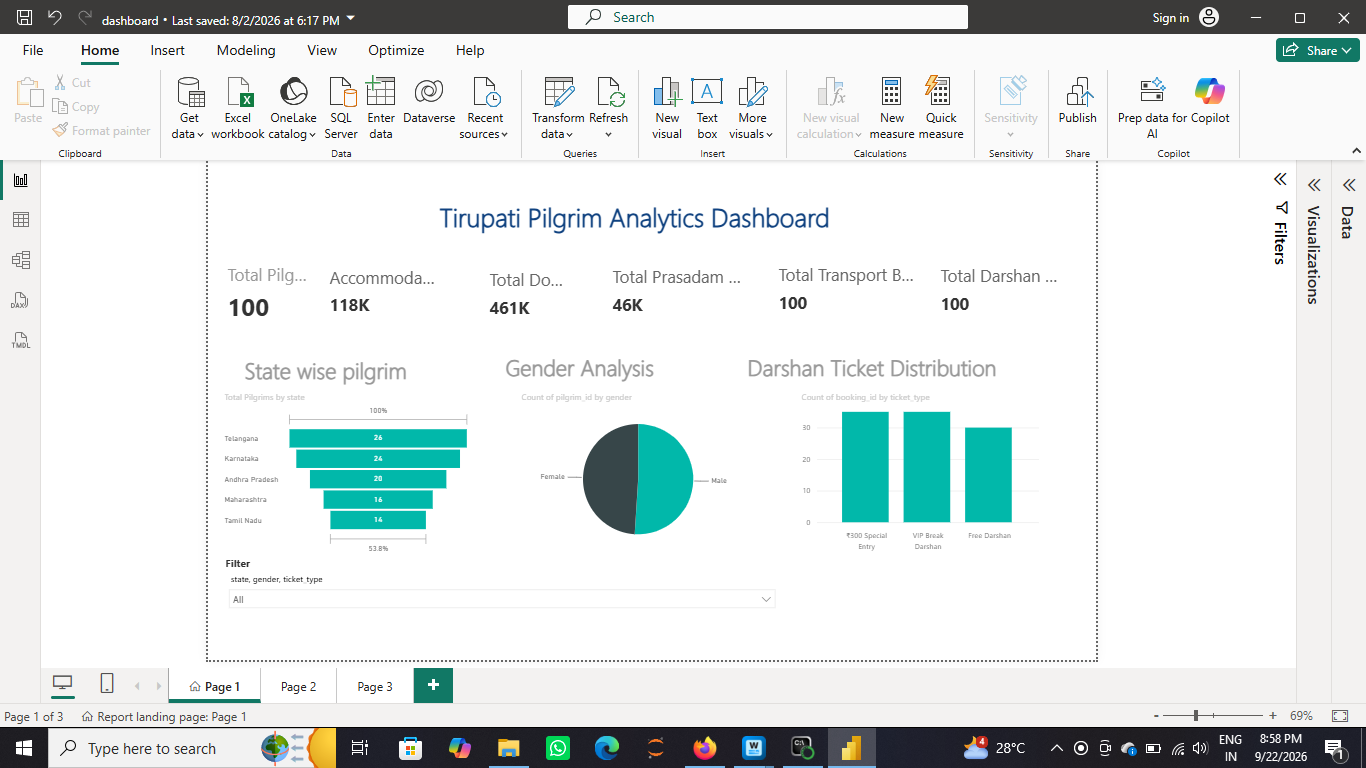

The page's visual inventory and layout, read from the dashboard file:
{"tool":"powerbi","page":{"name":"Page 1","canvas":[1280,720],"ordinal":0},"visuals":[{"type":"cardVisual","fields":{"Data":["pilgrims.Total Pilgrims"]},"box":[0,136.3,172.5,108.7],"z":0},{"type":"cardVisual","fields":{"Data":["darshan_bookings(1).Total Darshan Bookings"]},"box":[1026.4,108.7,227.7,155.3],"z":1000},{"type":"cardVisual","fields":{"Data":["accommodation.Accommodation Revenue"]},"box":[146.6,98.3,215.6,179.4],"z":2000},{"type":"cardVisual","fields":{"Data":["transport.Total Transport Bookings"]},"box":[793.5,108.7,255.3,151.8],"z":3000},{"type":"cardVisual","fields":{"Data":["prasadam_orders.Total Prasadam Revenue"]},"box":[553.7,108.7,251.9,158.7],"z":4000},{"type":"cardVisual","fields":{"Data":["donations.Total Donations"]},"box":[377.8,122.5,176,138],"z":5000},{"type":"textbox","box":[100,52.5,1040,75],"z":6000},{"type":"funnel","fields":{"Category":["pilgrims.state"],"Y":["pilgrims.Total Pilgrims"]},"box":[18,332,364,238],"z":7000},{"type":"pieChart","fields":{"Category":["pilgrims.gender"],"Y":["CountNonNull(pilgrims.pilgrim_id)"]},"box":[446,332,346,238],"z":8000},{"type":"clusteredColumnChart","fields":{"Category":["darshan_bookings(1).ticket_type"],"Y":["CountNonNull(darshan_bookings(1).booking_id)"]},"box":[850,332,352,238],"z":9000},{"type":"textbox","box":[48,270,334,62],"z":10000},{"type":"textbox","box":[424,270,400,62],"z":11000},{"type":"textbox","box":[772,270,508,62],"z":12000},{"type":"slicer","title":"Filter","fields":{"Values":["pilgrims.state","pilgrims.gender","darshan_bookings(1).ticket_type"]},"box":[20,570,806.7,111.7],"z":13000}]}

Visuals, with their boxes on the page's 1280x720 design canvas (x1, y1, x2, y2). These are canvas units, not pixel positions in the 1366x768 screenshot, which may show the page scaled, cropped or inside an application window:
cardVisual - pilgrims.Total Pilgrims: bbox=[0, 136, 172, 245]
cardVisual - darshan_bookings(1).Total Darshan Bookings: bbox=[1026, 109, 1254, 264]
cardVisual - accommodation.Accommodation Revenue: bbox=[147, 98, 362, 278]
cardVisual - transport.Total Transport Bookings: bbox=[794, 109, 1049, 260]
cardVisual - prasadam_orders.Total Prasadam Revenue: bbox=[554, 109, 806, 267]
cardVisual - donations.Total Donations: bbox=[378, 122, 554, 260]
textbox: bbox=[100, 52, 1140, 128]
funnel - pilgrims.state x pilgrims.Total Pilgrims: bbox=[18, 332, 382, 570]
pieChart - pilgrims.gender x CountNonNull(pilgrims.pilgrim_id): bbox=[446, 332, 792, 570]
clusteredColumnChart - darshan_bookings(1).ticket_type x CountNonNull(darshan_bookings(1).booking_id): bbox=[850, 332, 1202, 570]
textbox: bbox=[48, 270, 382, 332]
textbox: bbox=[424, 270, 824, 332]
textbox: bbox=[772, 270, 1280, 332]
"Filter" slicer: bbox=[20, 570, 827, 682]
